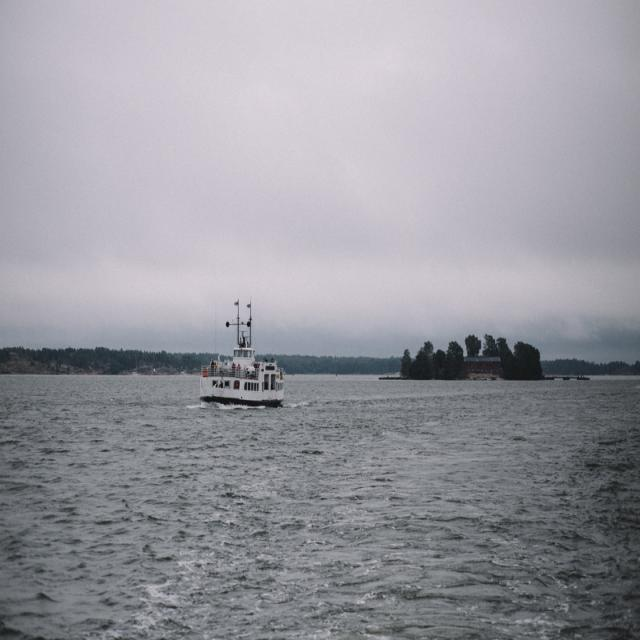fishing boat: (194, 292, 296, 413)
